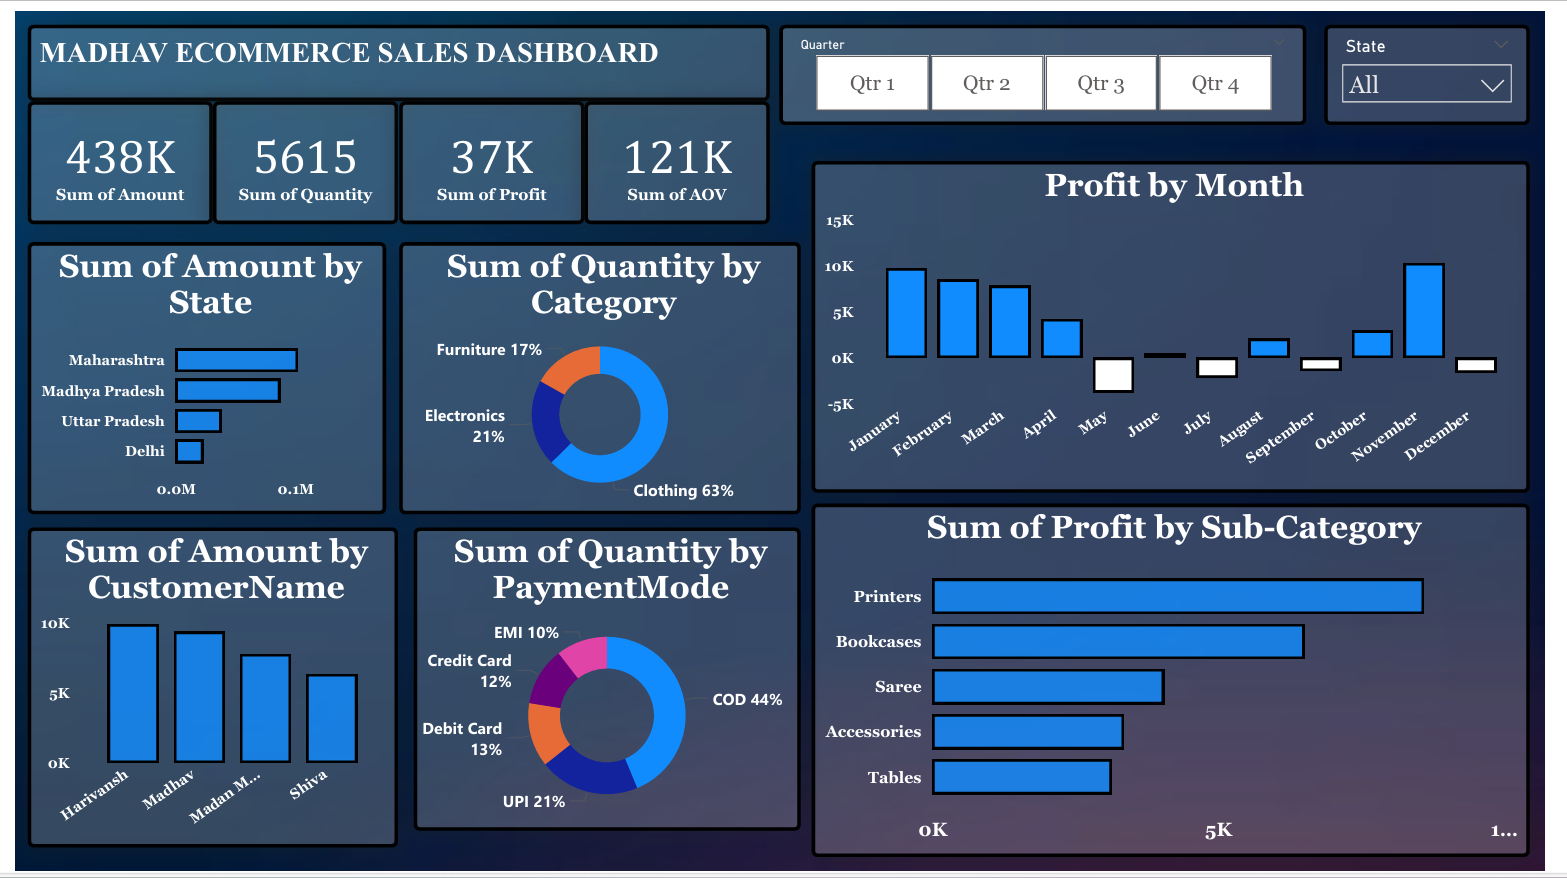

The page's visual inventory and layout, read from the dashboard file:
{"tool":"powerbi","page":{"name":"Page 1","canvas":[1280,720],"ordinal":0},"visuals":[{"type":"textbox","box":[9.6,11,621.6,64.5],"z":0},{"type":"columnChart","title":" Profit by Month","fields":{"Y":["Details.Profit"],"Category":["Orders.Order Date.Variation.Date Hierarchy.Month"]},"box":[665.5,124.9,601,278.6],"z":1000},{"type":"barChart","fields":{"Category":["Details.Sub-Category"],"Y":["Details.Profit"]},"box":[665.5,411.7,601,296.4],"z":2000},{"type":"donutChart","fields":{"Category":["Details.Category"],"Y":["Details.Quantity"]},"box":[321.1,193.5,336.2,227.8],"z":3000},{"type":"donutChart","fields":{"Y":["Details.Quantity"],"Category":["Details.PaymentMode"]},"box":[333.4,432.2,323.8,253.9],"z":4000},{"type":"card","fields":{"Values":["Details.Amount"]},"box":[9.6,75.5,155.1,102.9],"z":5000},{"type":"card","fields":{"Values":["Details.Quantity"]},"box":[164.7,75.5,155.1,102.9],"z":6000},{"type":"card","fields":{"Values":["Details.Profit"]},"box":[321.1,75.5,155.1,102.9],"z":7000},{"type":"card","fields":{"Values":["Details.AOV"]},"box":[476.2,75.5,155.1,102.9],"z":8000},{"type":"barChart","fields":{"Category":["Orders.State"],"Y":["Details.Amount"]},"box":[9.6,193.5,300.5,227.8],"z":9000},{"type":"columnChart","fields":{"Category":["Orders.CustomerName"],"Y":["Details.Amount"]},"box":[9.6,432.2,310.1,267.6],"z":10000},{"type":"slicer","fields":{"Values":["Orders.Order Date.Variation.Date Hierarchy.Quarter"]},"box":[639.5,11,440.5,83.7],"z":11000},{"type":"slicer","fields":{"Values":["Orders.State"]},"box":[1095,11,171.5,83.7],"z":12000}]}

Visuals, with their boxes in screenshot pixels (x1, y1, x2, y2), scaled from the page's 1280x720 canvas onto the 1567x878 screenshot:
textbox: <region>12, 13, 773, 92</region>
" Profit by Month" columnChart: <region>815, 152, 1550, 492</region>
barChart - Details.Sub-Category x Details.Profit: <region>815, 502, 1550, 863</region>
donutChart - Details.Category x Details.Quantity: <region>393, 236, 805, 514</region>
donutChart - Details.Quantity x Details.PaymentMode: <region>408, 527, 805, 837</region>
card - Details.Amount: <region>12, 92, 202, 218</region>
card - Details.Quantity: <region>202, 92, 392, 218</region>
card - Details.Profit: <region>393, 92, 583, 218</region>
card - Details.AOV: <region>583, 92, 773, 218</region>
barChart - Orders.State x Details.Amount: <region>12, 236, 380, 514</region>
columnChart - Orders.CustomerName x Details.Amount: <region>12, 527, 391, 853</region>
slicer - Orders.Order Date.Variation.Date Hierarchy.Quarter: <region>783, 13, 1322, 115</region>
slicer - Orders.State: <region>1341, 13, 1550, 115</region>
